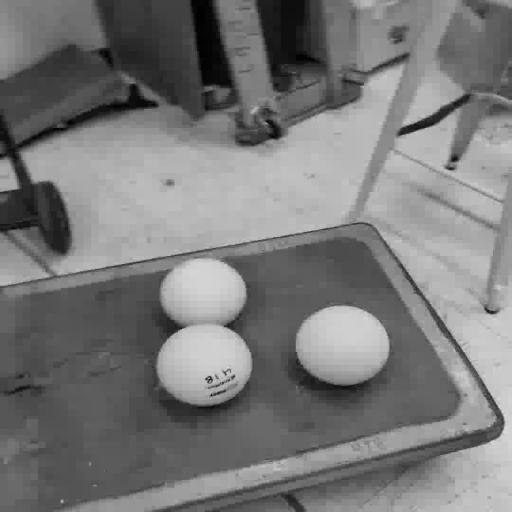fuel: (156, 324, 252, 406), (296, 306, 390, 386), (160, 258, 246, 327)
